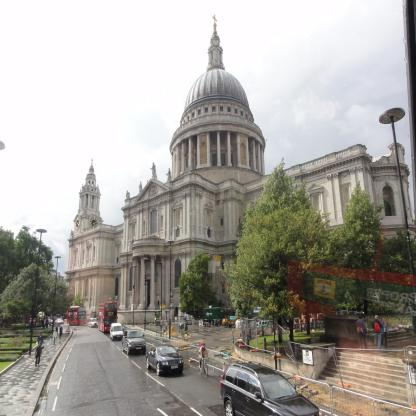Car: (223, 367, 309, 416), (147, 346, 185, 377), (123, 329, 147, 355), (111, 323, 125, 341), (90, 317, 99, 329), (58, 319, 65, 325), (50, 318, 54, 324)
